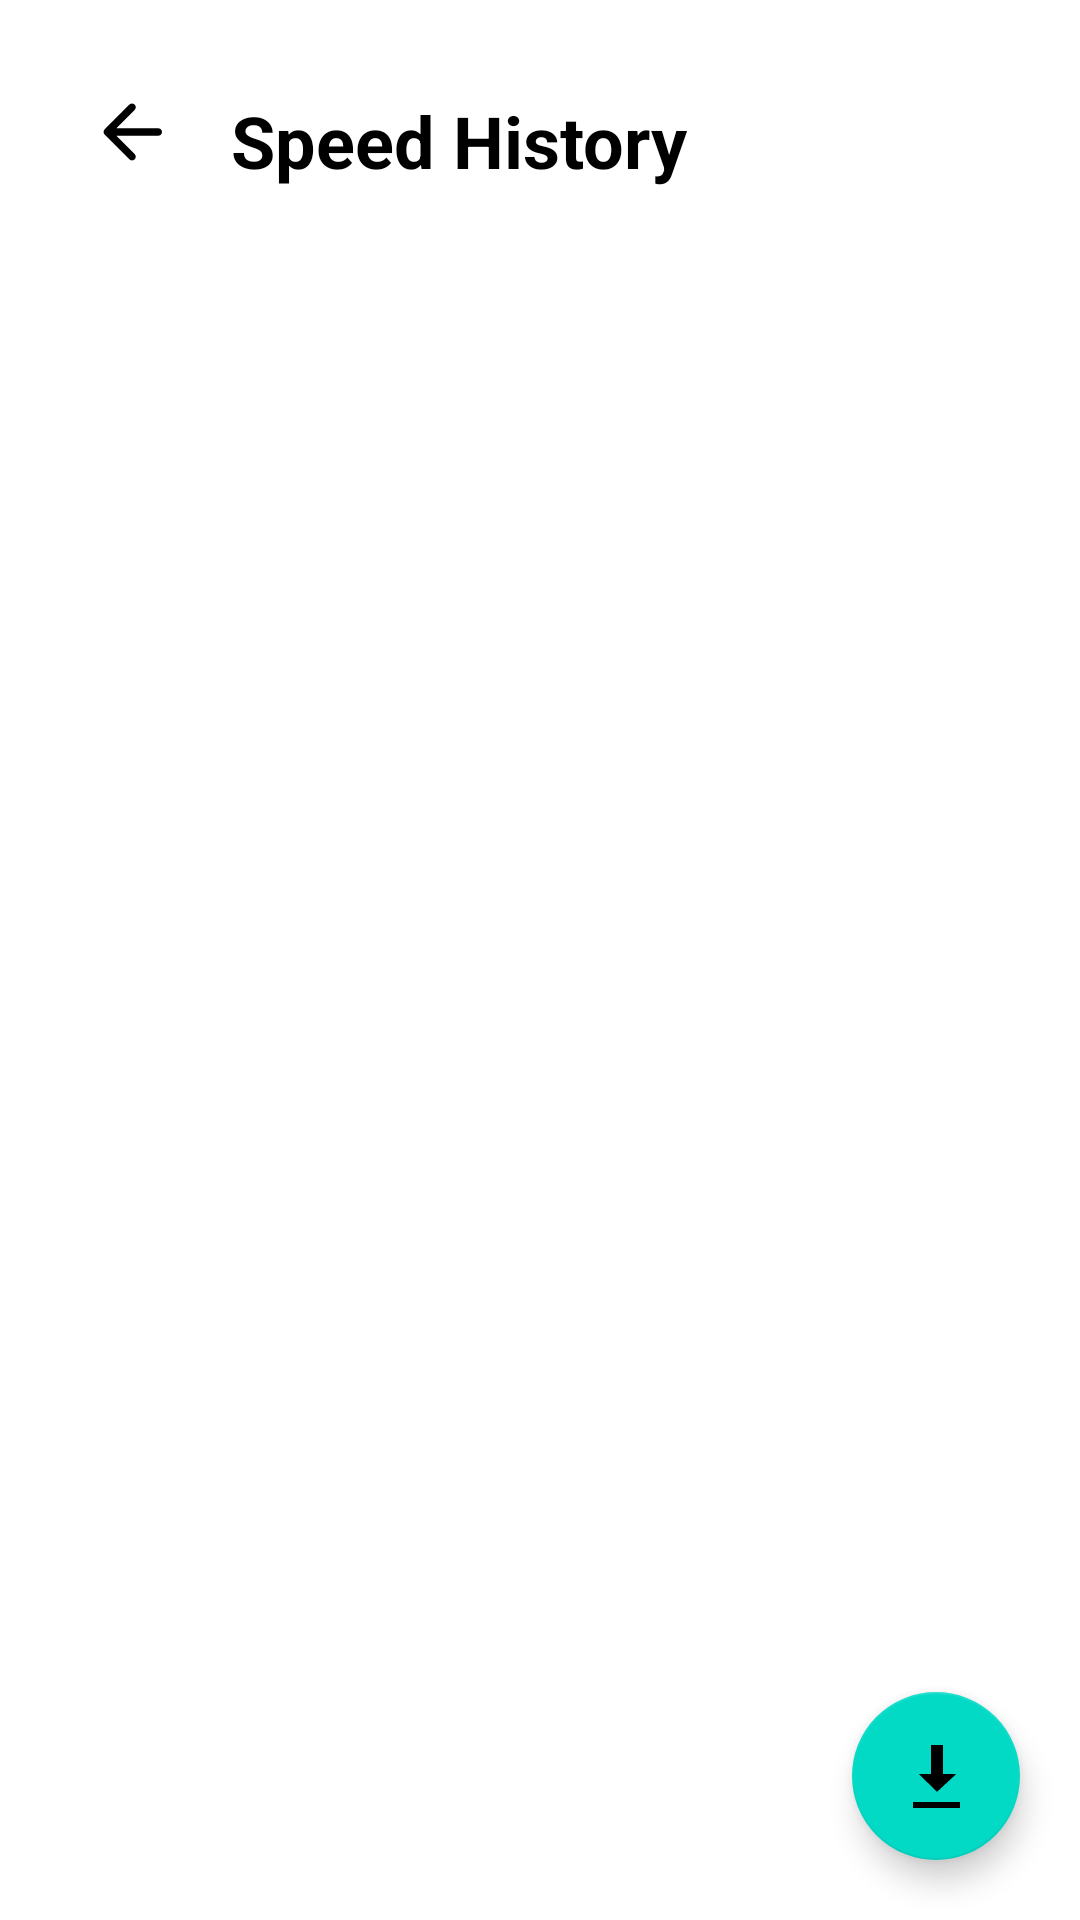

Icons on this 1080px×1920px Android screen, each with the point to tap as [x,y]:
back arrow: [132,132]
